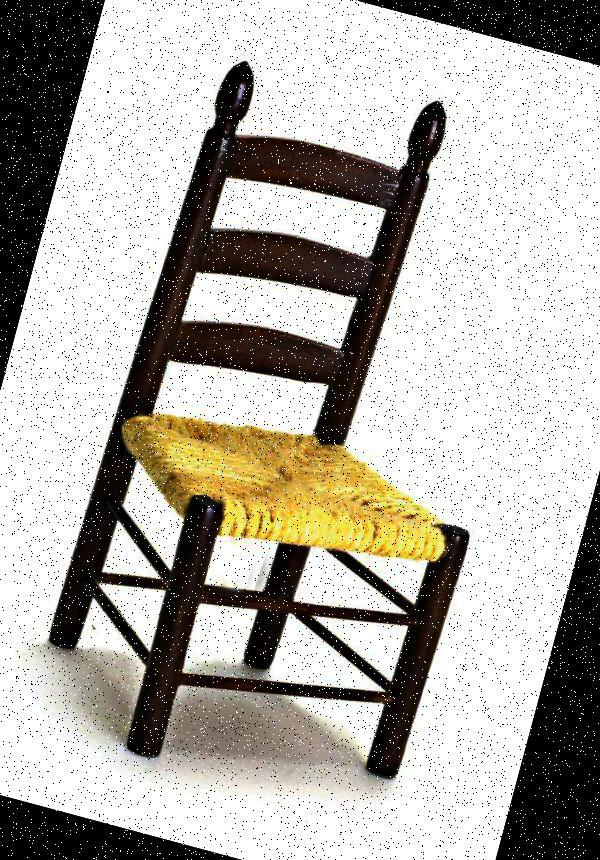Silla: (37, 41, 575, 816)
